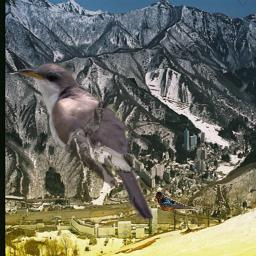Cuckoo: (15, 59, 153, 225)
Swallow: (154, 191, 198, 211)
